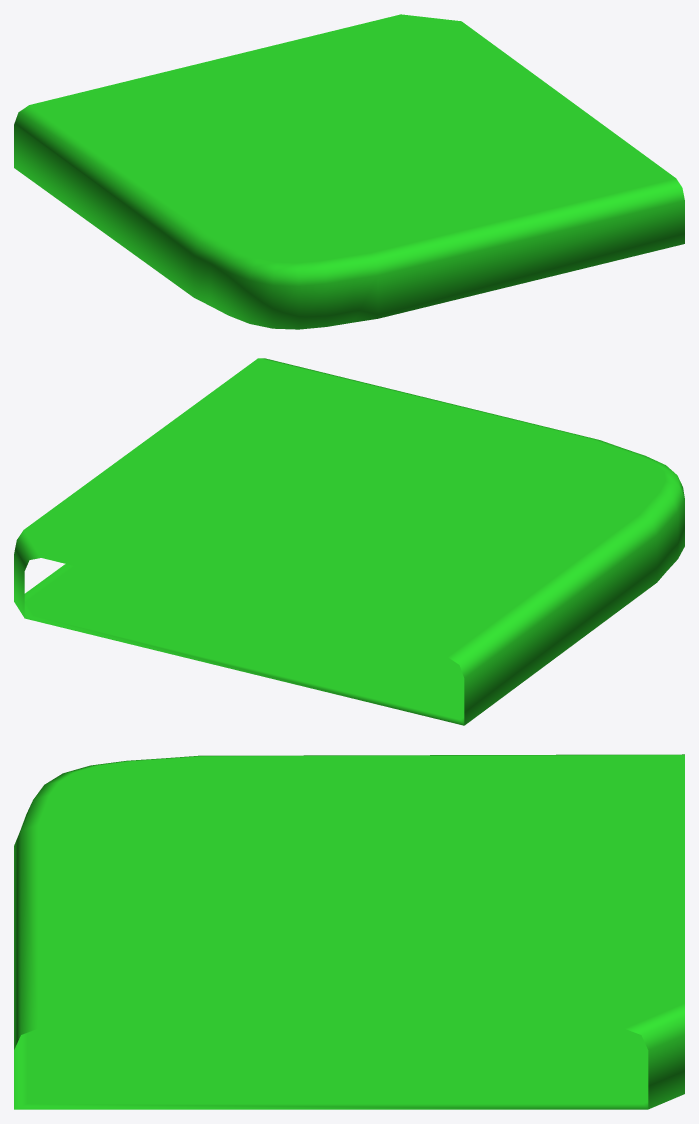
File: ContainerLidCorner.fbx
The picture shows the model from 3 angles, top to bottom: view 1: azimuth 30°, elevation 25°; view 2: azimuth 150°, elevation 25°; view 3: azimuth 270°, elevation 25°; orthographic projection. The views are drawn at different scales.
Parts seen in each view (by area): view 1: ContainerLidCorner; view 2: ContainerLidCorner; view 3: ContainerLidCorner.
Boxes of the visible parts, x1,y1,x2,y2 form: ContainerLidCorner: [14, 14, 684, 329]; ContainerLidCorner: [14, 358, 684, 725]; ContainerLidCorner: [14, 754, 684, 1109].
Size of the model in its own units: 47.41 by 6.3 by 47.41.
